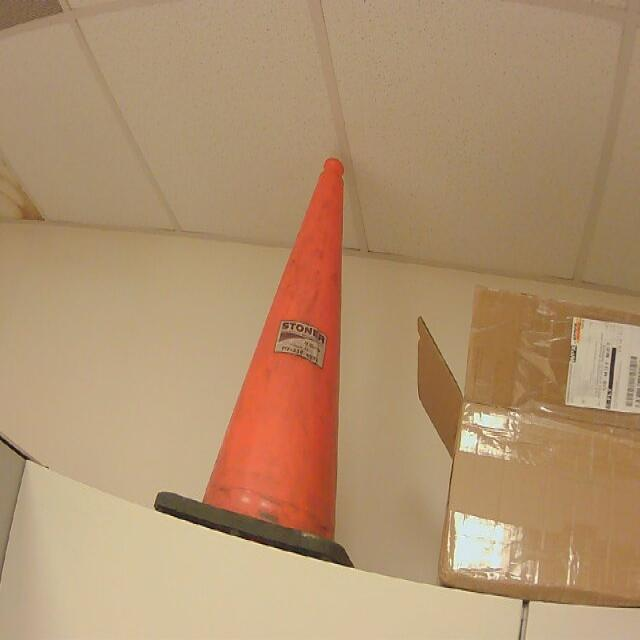traffic cone: (154, 158, 354, 570)
